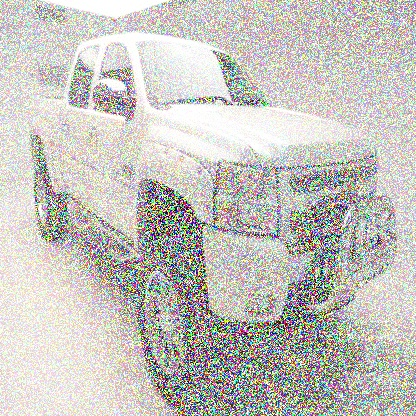Vehicle: (27, 34, 400, 407)
